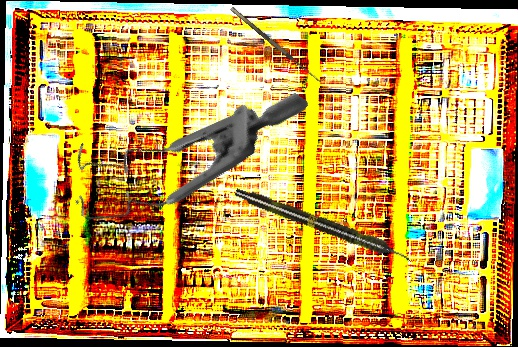Handpiece: (232, 184, 414, 267)
Hook Surgical: (229, 2, 327, 85)
Speculum: (47, 8, 310, 286)
